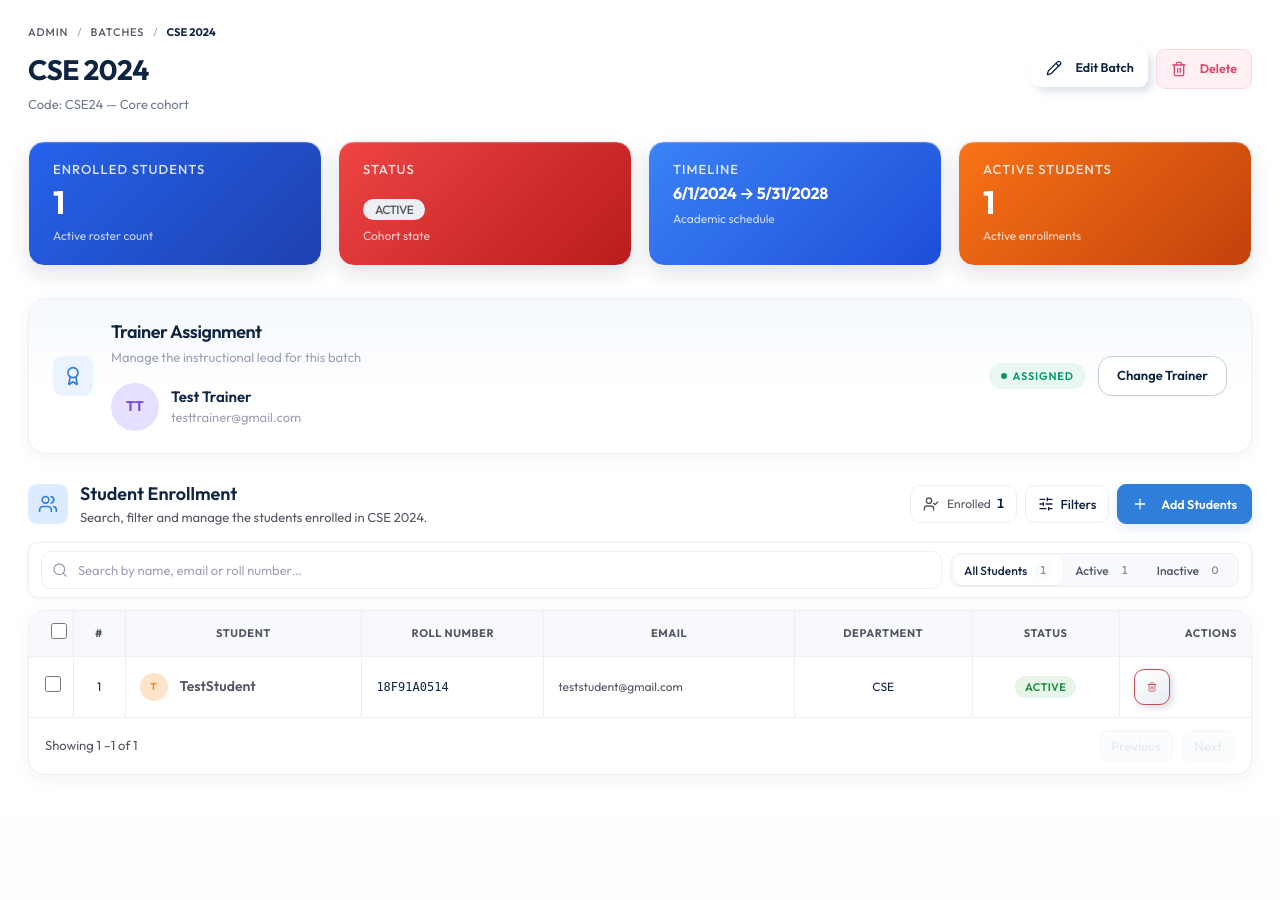
Test: bulk bar appears with an accurate count and clears selection
Expected: the text "TestStudent" is shown, top-left (180, 677), bottom-right (256, 695)
Step 1. Click the checkbox named "Select TestStudent" → (53, 684), box top-left (45, 676), bottom-right (61, 692)
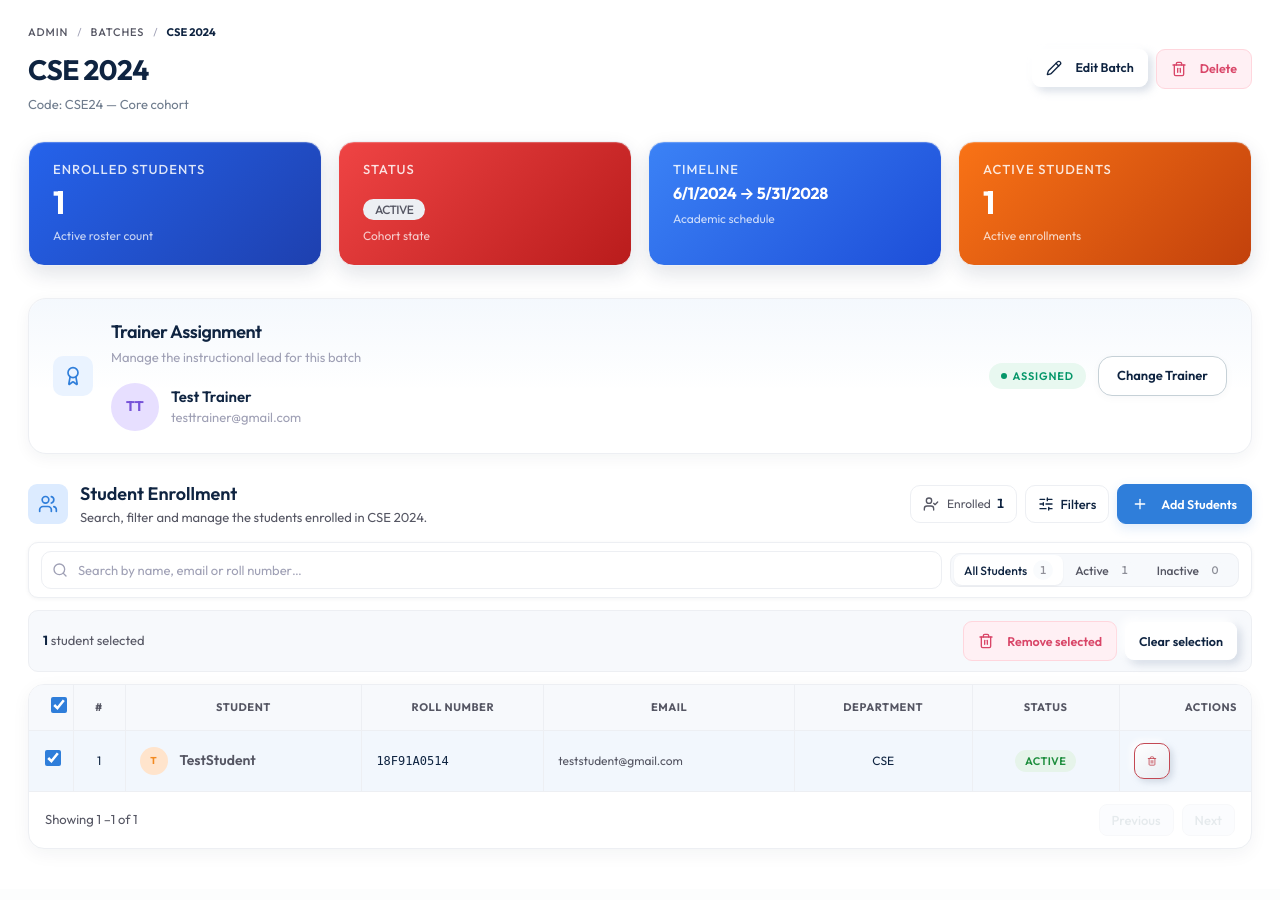
Result: the text "1 student selected" is shown at top-left (43, 631), bottom-right (144, 651)
Result: the button "Remove selected" is shown at top-left (963, 621), bottom-right (1117, 661)
Step 2. Click the button "Clear selection" → (1181, 641), box top-left (1125, 622), bottom-right (1237, 660)
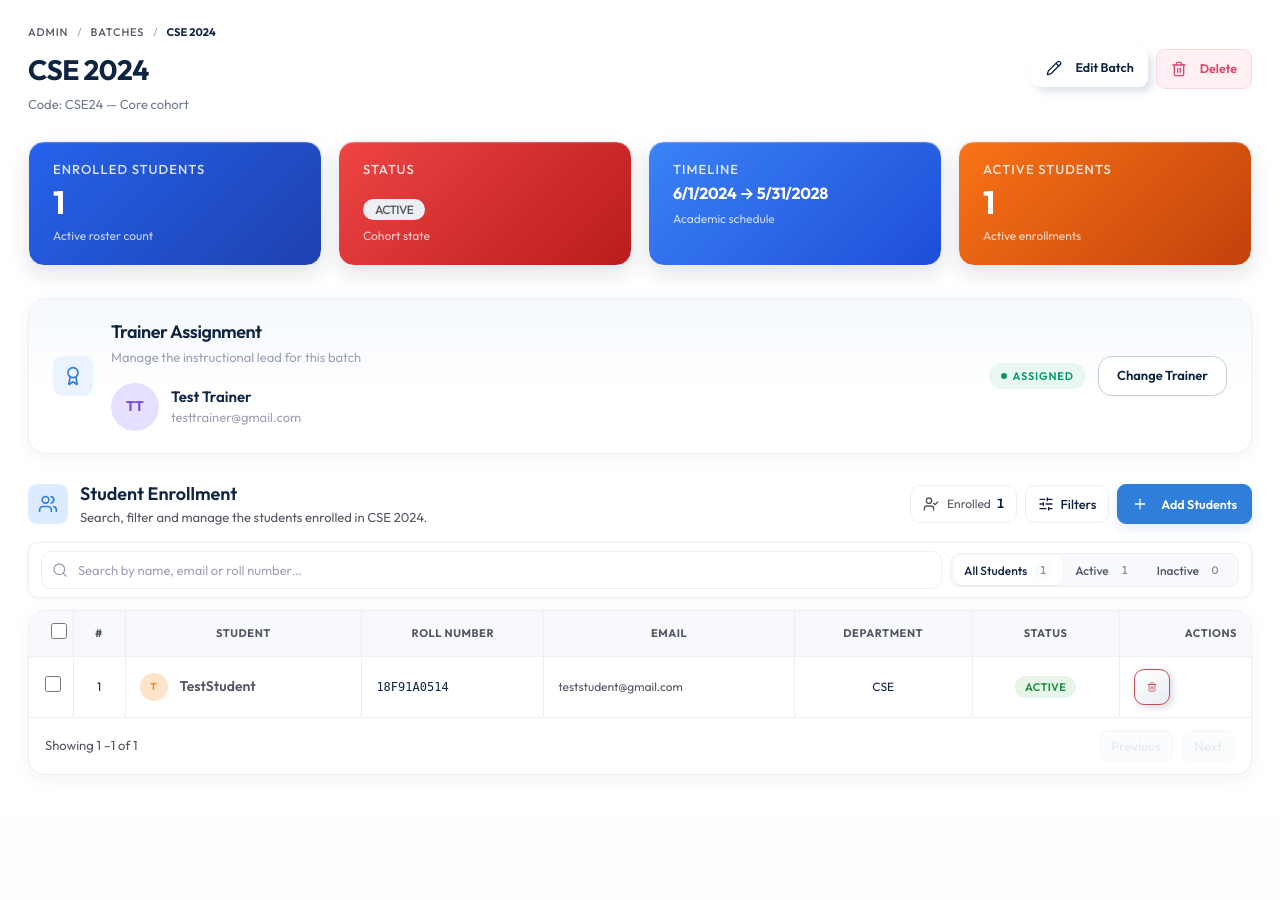
Result: the message with test id "bulk-selection-count" is gone
